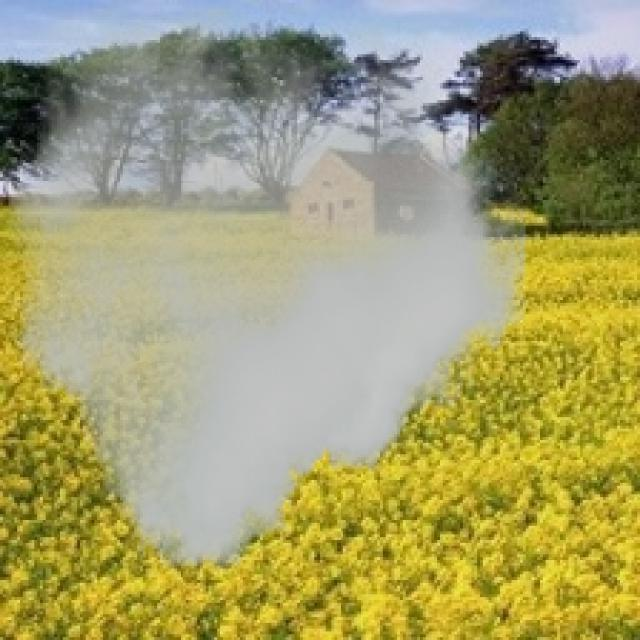smoke: (8, 9, 526, 568)
